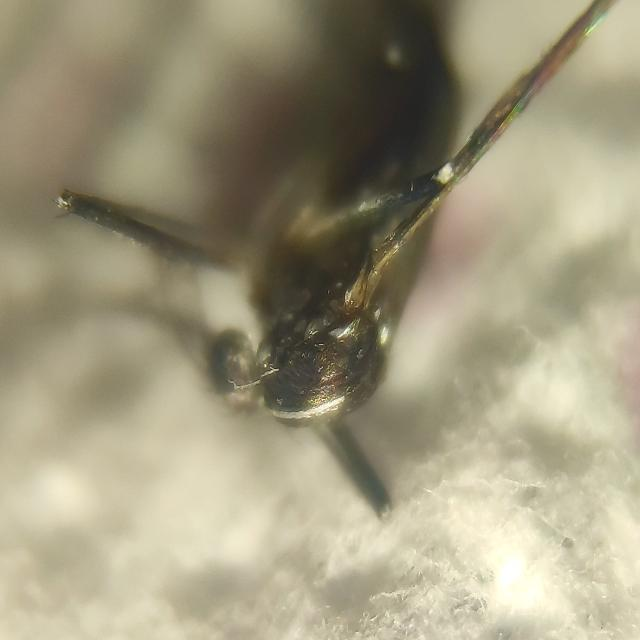albopictus: (218, 30, 598, 431)
